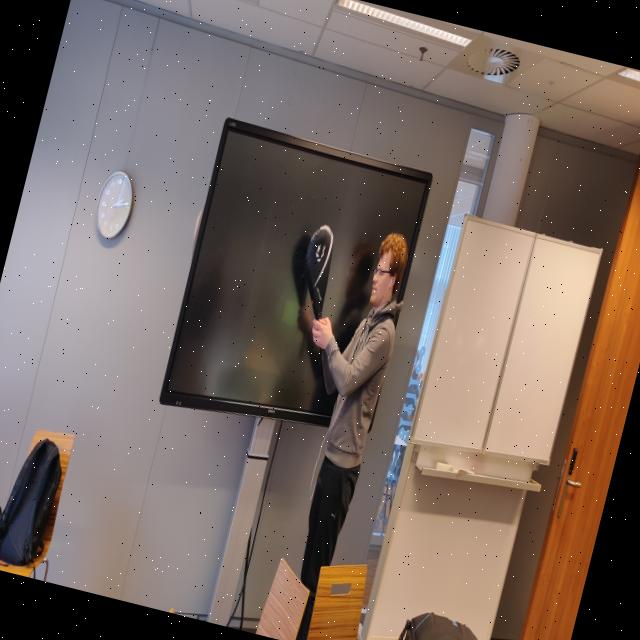paddle: (304, 225, 333, 320)
